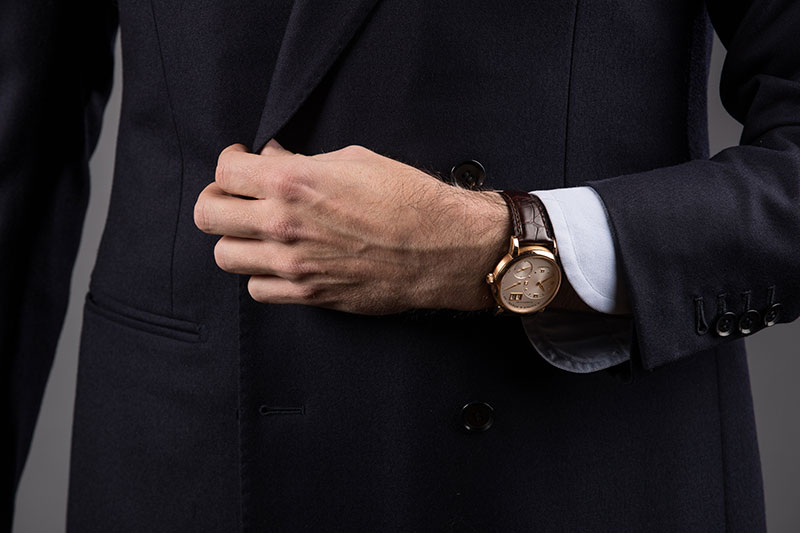clock: (503, 253, 562, 312)
